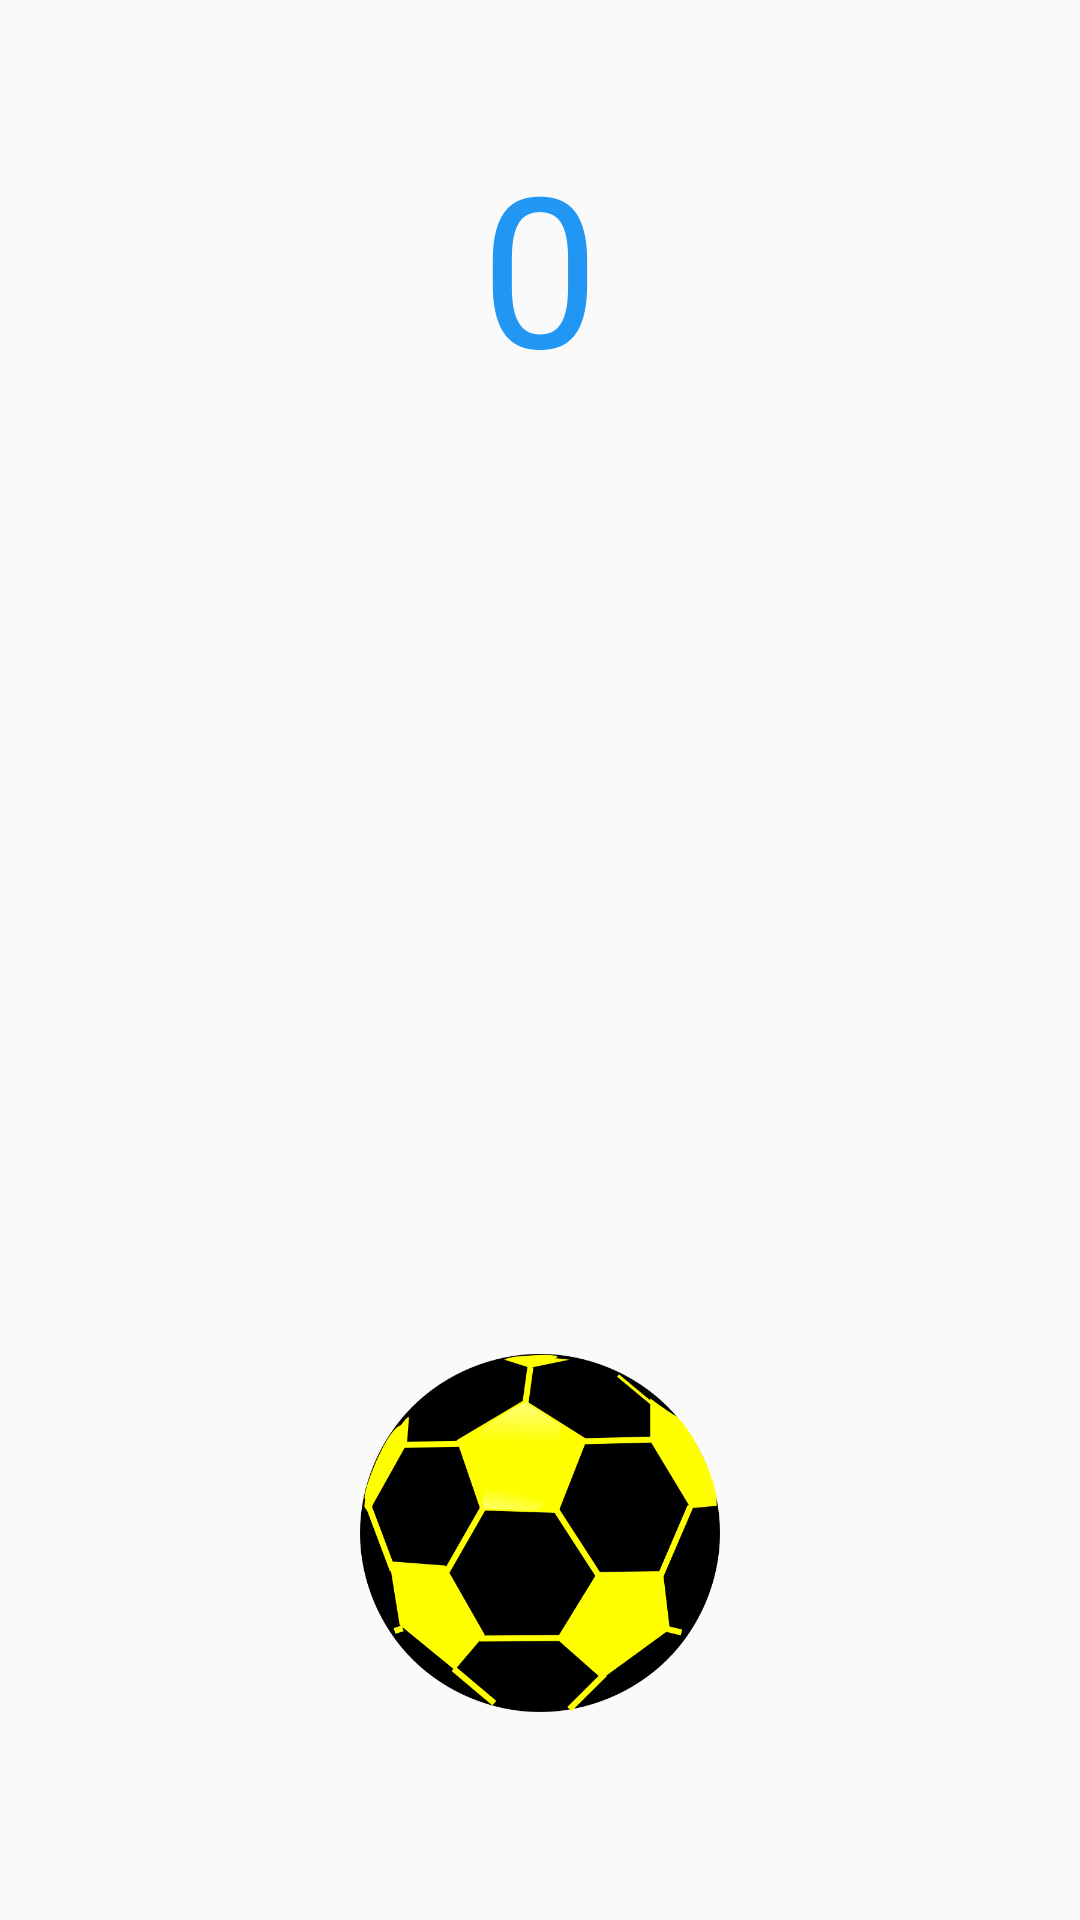

Locate icon controls on the screen. Image size 1080*1920, boxes as (left=x1, top=y1, right=x2, bottom=y2).
ball: (left=360, top=1354, right=720, bottom=1712)
